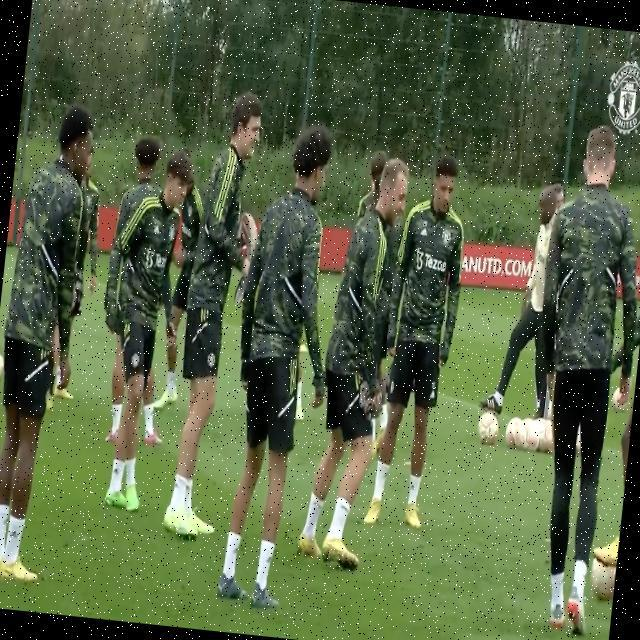Adidas: (8, 524, 21, 541), (420, 224, 429, 238), (153, 222, 162, 234)
